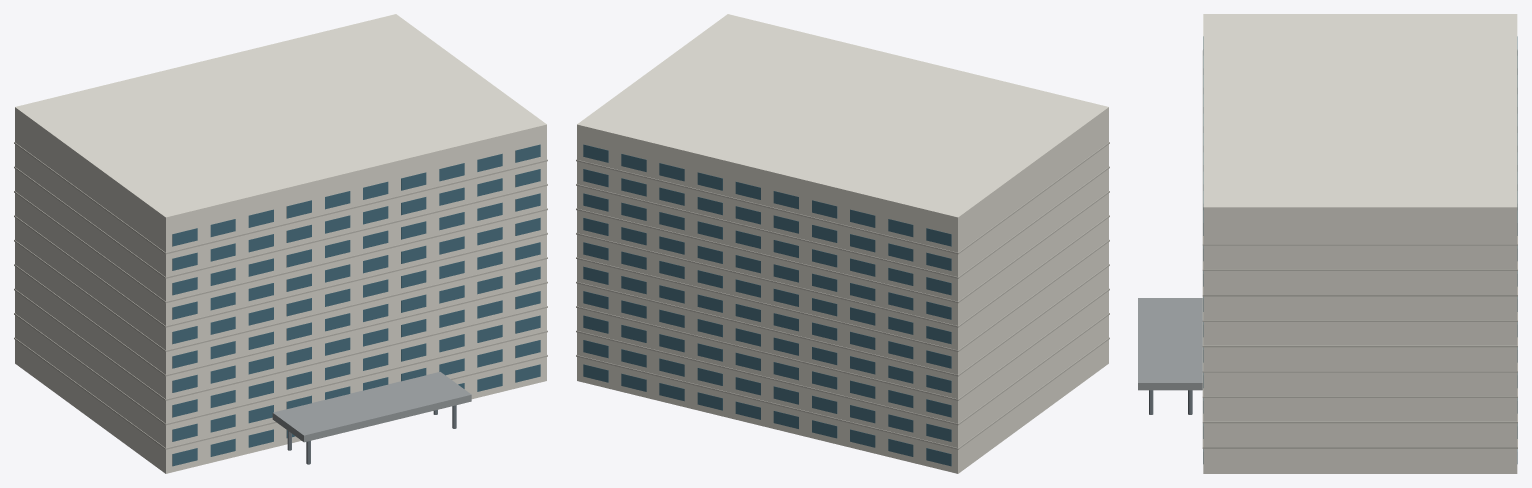
3 renders of one model, left to right at view 1: azimuth 30°, elevation 25°; view 2: azimuth 150°, elevation 25°; view 3: azimuth 270°, elevation 25°, orthographic. The views are drawn at different scales.
Visible parts, largest first — view 1: worldgen; view 2: worldgen; view 3: worldgen.
Part boxes in pixels (<box>): worldgen: <box>14,14,547,473</box>; worldgen: <box>576,14,1109,473</box>; worldgen: <box>1138,14,1517,473</box>.
Bounding box in the file's own units: 70.2 × 45 × 58.1.
